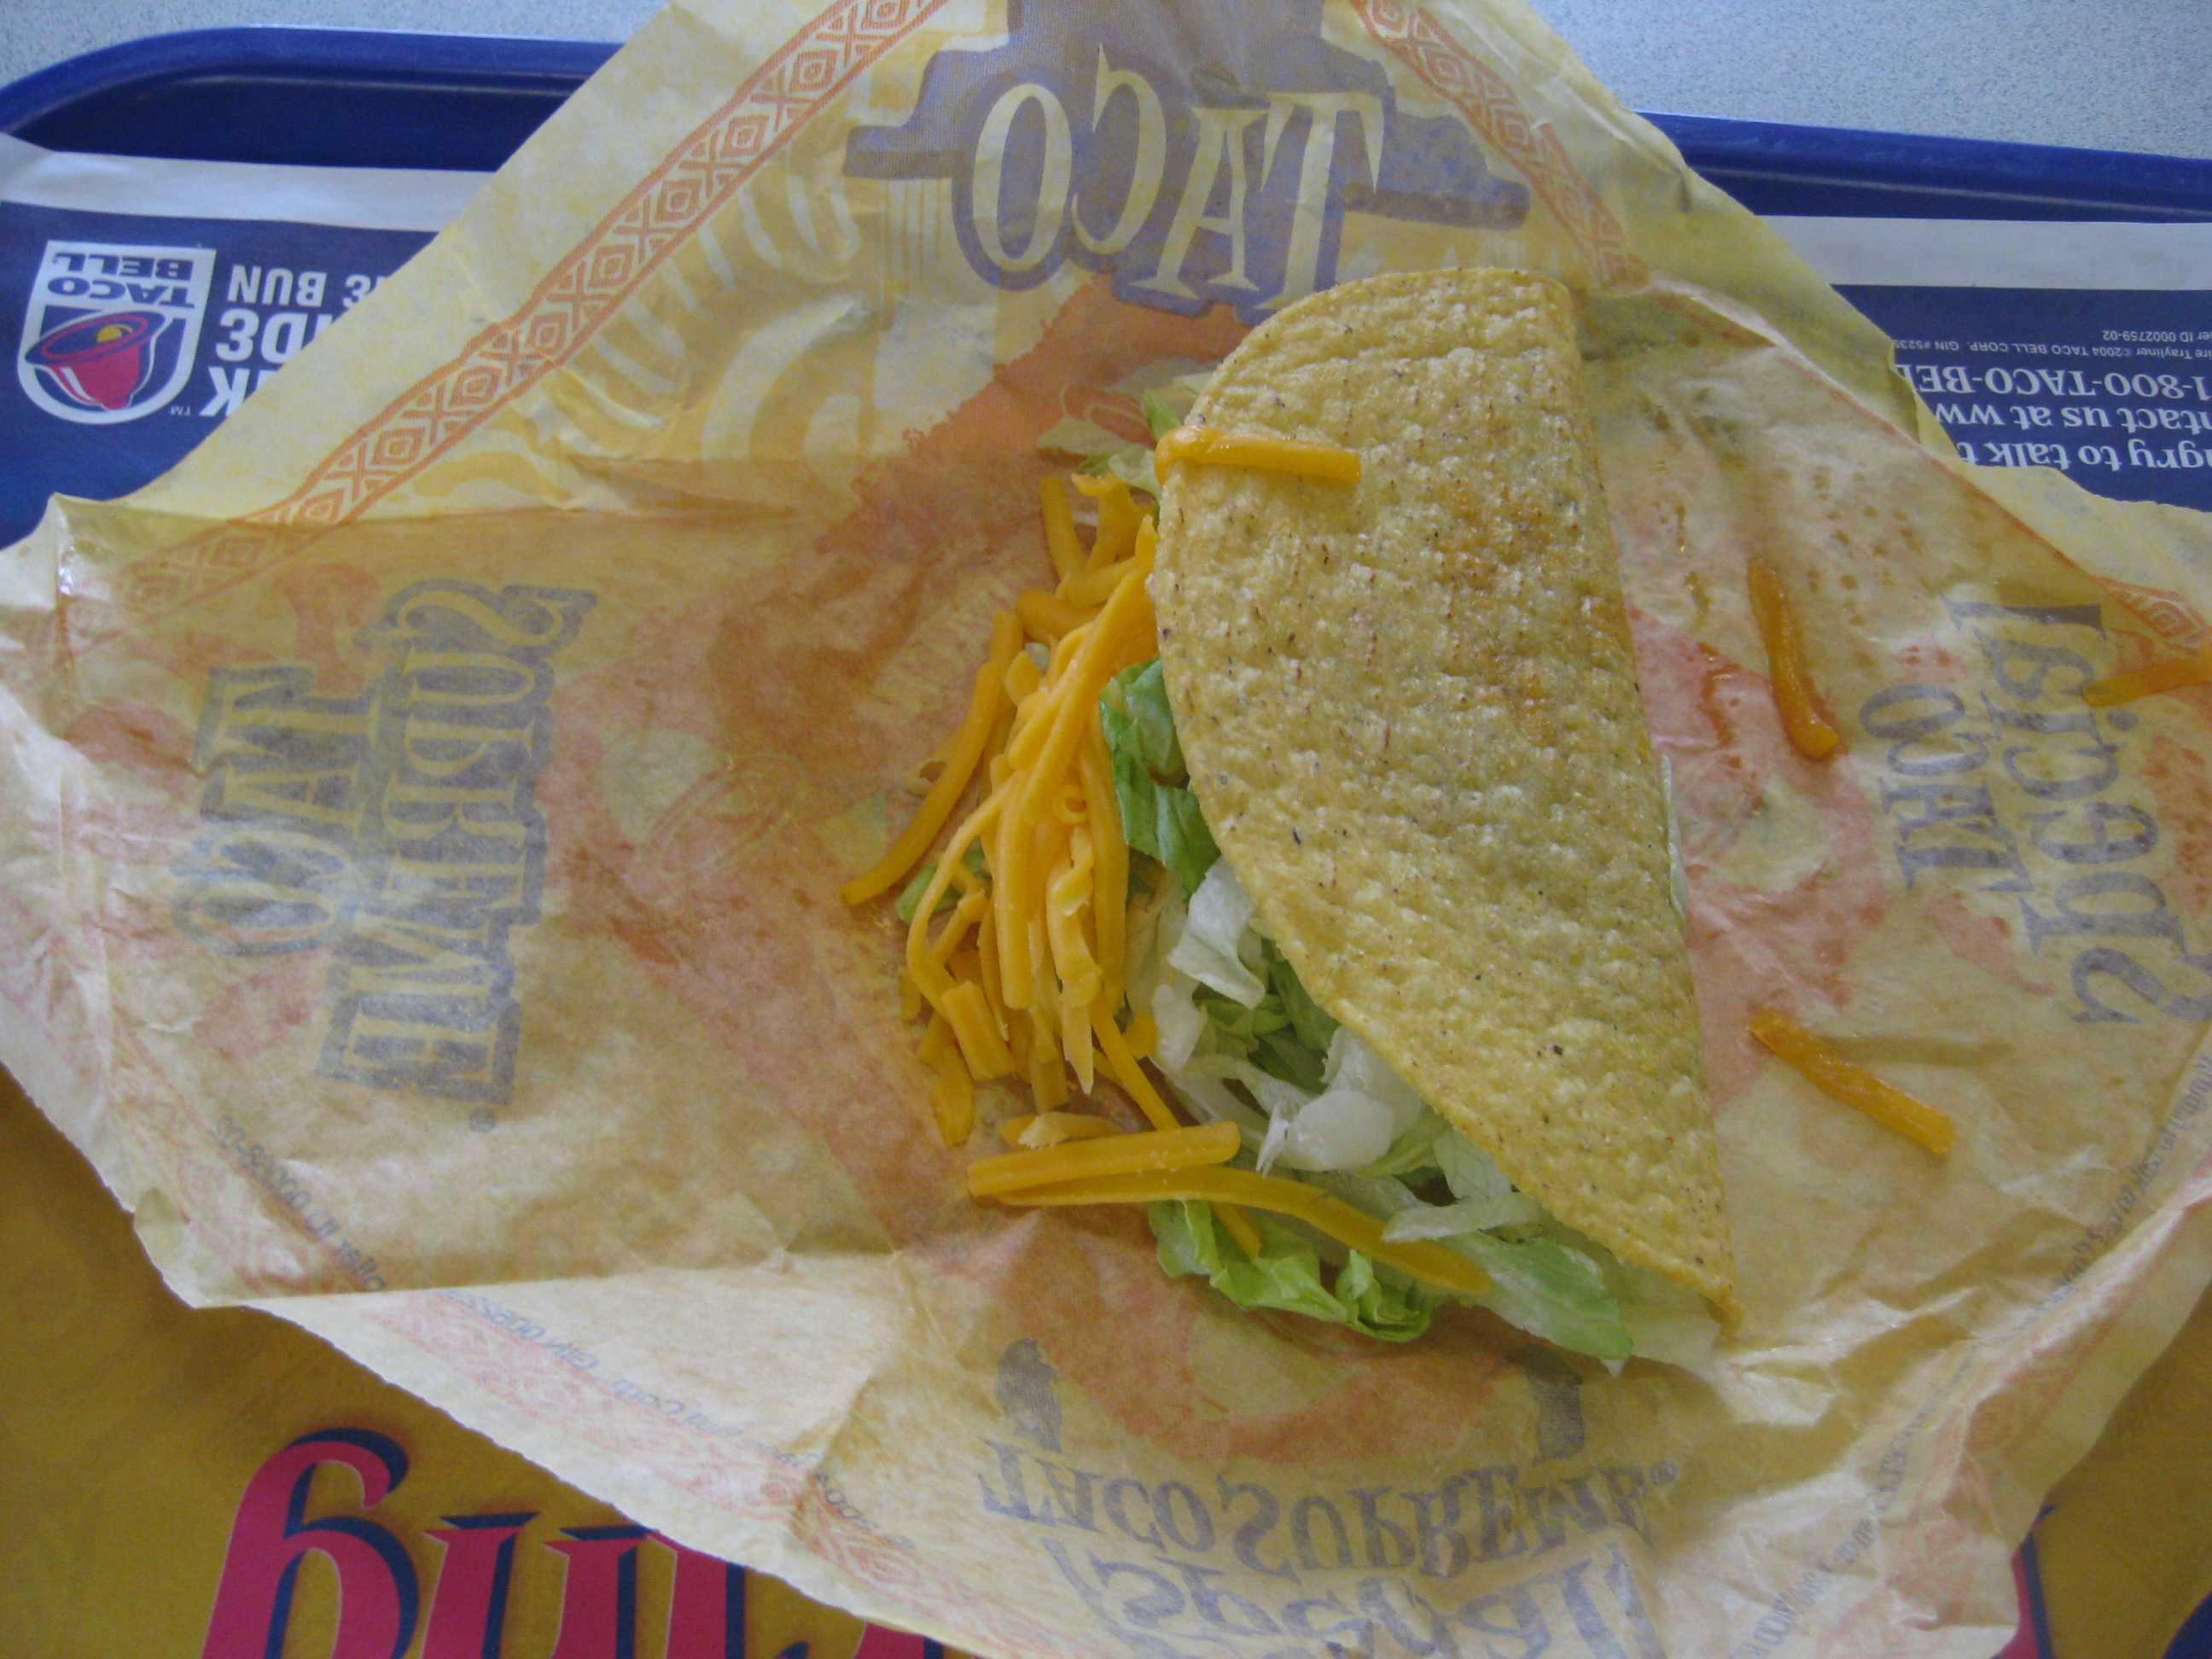taco: (1006, 204, 1811, 1397)
